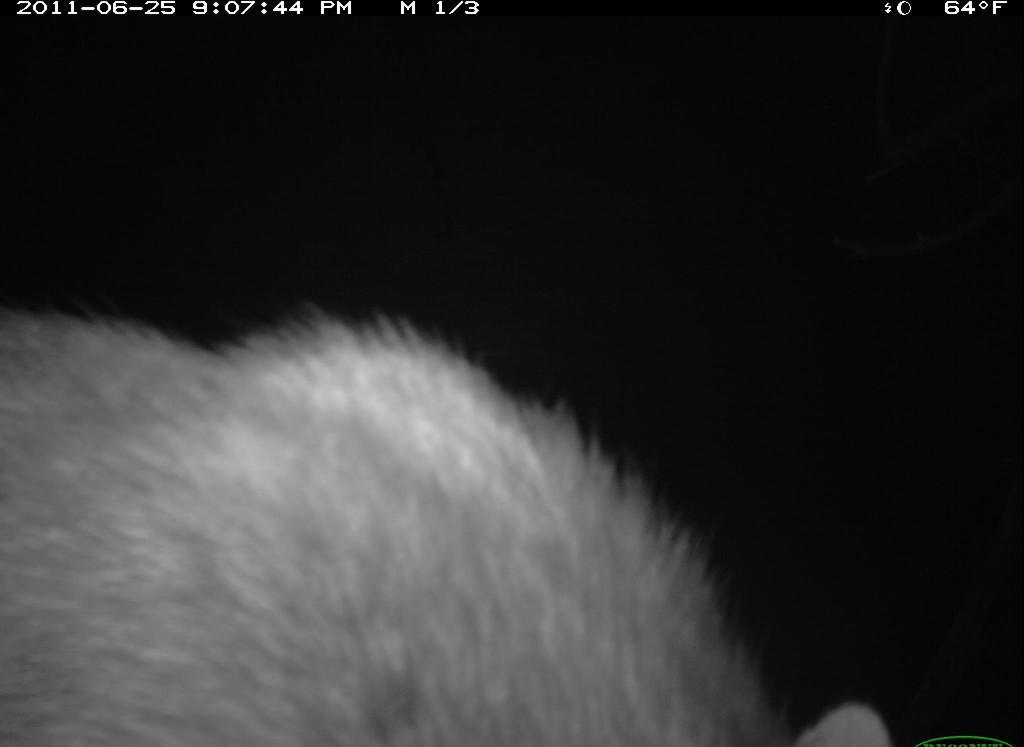raccoon: (1, 281, 908, 747)
